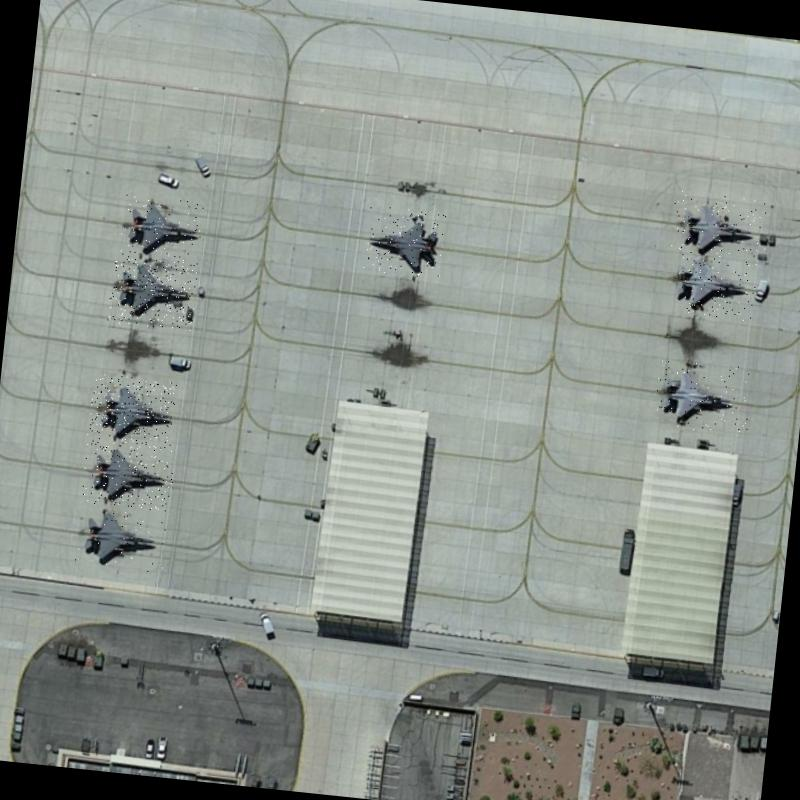A13: (652, 356, 756, 436), (668, 190, 770, 264), (86, 373, 176, 452), (106, 254, 198, 331), (80, 442, 176, 511), (73, 505, 169, 574), (118, 193, 204, 266), (362, 204, 446, 278), (674, 250, 758, 322)
